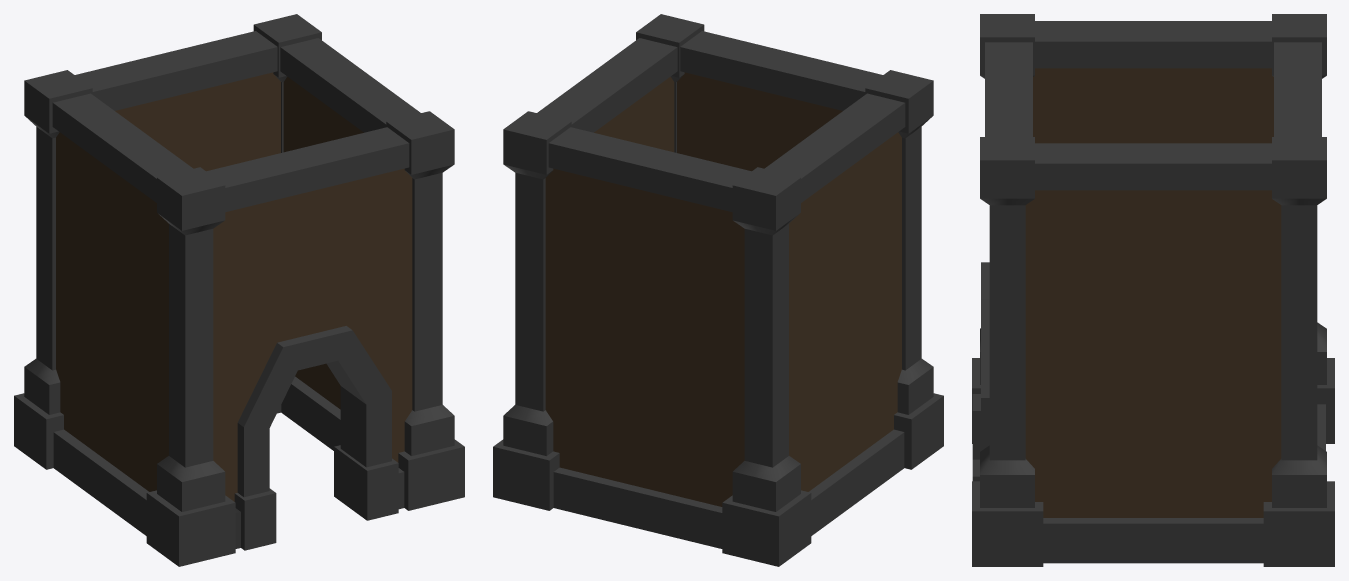
Rendered from End.fbx.
The picture shows the model from 3 angles, left to right: view 1: azimuth 30°, elevation 25°; view 2: azimuth 150°, elevation 25°; view 3: azimuth 270°, elevation 25°; orthographic projection. The views are drawn at different scales.
Visible parts, largest first — view 1: Wall02; view 2: Wall02; view 3: Wall02.
Part boxes in pixels (x1,y1,x2,y2): Wall02: (14,14,464,566); Wall02: (493,14,943,566); Wall02: (972,14,1334,566).
Bounding box in the file's own units: 280 × 343 × 280.
